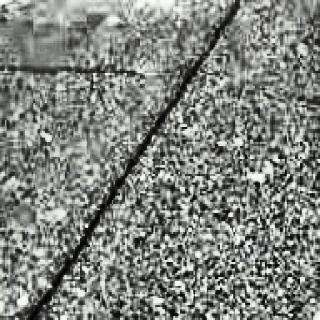crack: (27, 0, 253, 317), (0, 59, 146, 81)
